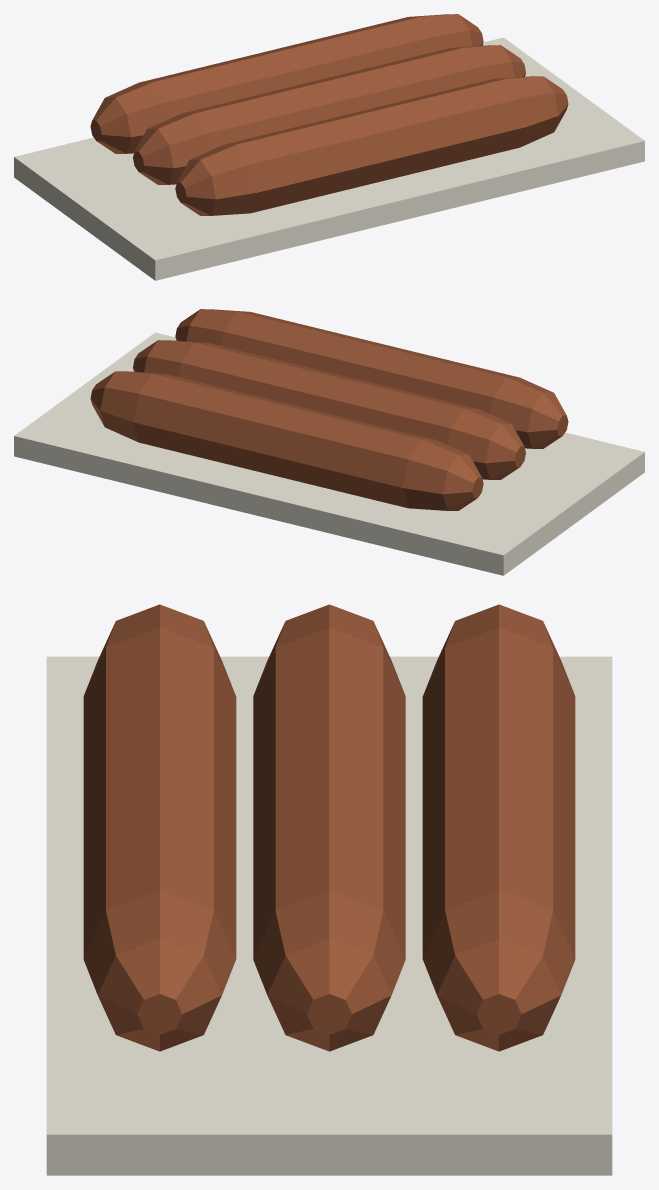
Rendered from FD_Sausages_01.glb.
The picture shows the model from 3 angles, top to bottom: view 1: azimuth 30°, elevation 25°; view 2: azimuth 150°, elevation 25°; view 3: azimuth 270°, elevation 25°; orthographic projection. The views are drawn at different scales.
Visible parts, largest first — view 1: FD_Sausages_01; view 2: FD_Sausages_01; view 3: FD_Sausages_01.
Part boxes in pixels (<box>): FD_Sausages_01: <box>14,14,644,280</box>; FD_Sausages_01: <box>14,309,644,575</box>; FD_Sausages_01: <box>46,604,612,1175</box>.
Size of the model in its own units: 0.2 by 0.0347 by 0.1.
Materials: 1 (1 with a texture image).
